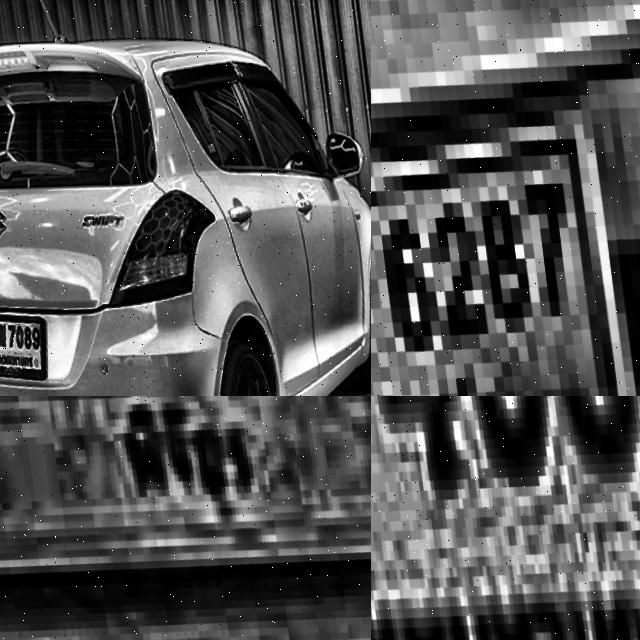license-plate: (371, 0, 640, 396), (0, 396, 371, 623), (371, 396, 640, 640), (0, 296, 53, 389)
